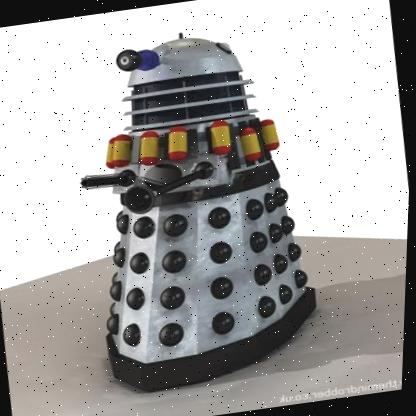dalek: (47, 14, 335, 412)
